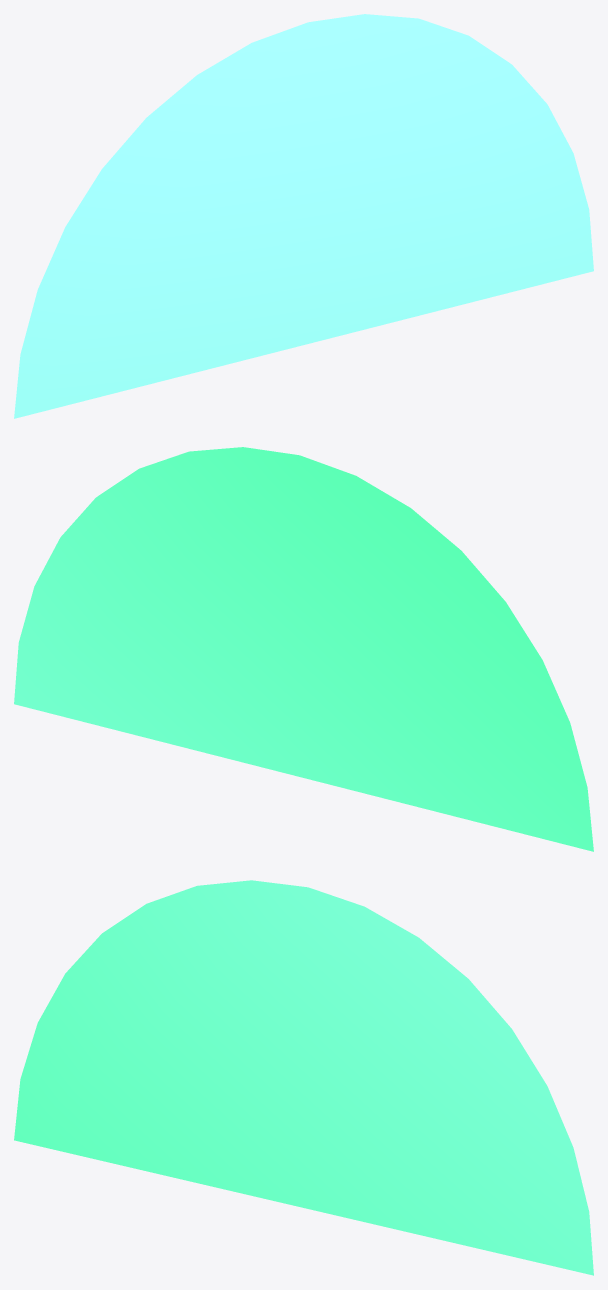
The model's file is green screen.glb.
3 renders of one model, top to bottom at view 1: azimuth 30°, elevation 25°; view 2: azimuth 150°, elevation 25°; view 3: azimuth 330°, elevation 25°, orthographic.
Visible parts, largest first — view 1: backdoor.002; view 2: backdoor.002; view 3: backdoor.002.
Part boxes in pixels (x1=…): backdoor.002: x1=14, y1=14, x2=593, y2=418; backdoor.002: x1=14, y1=447, x2=593, y2=851; backdoor.002: x1=14, y1=880, x2=593, y2=1275.
Size of the model in its own units: 4.46 by 2.39 by 7.61e-07.
